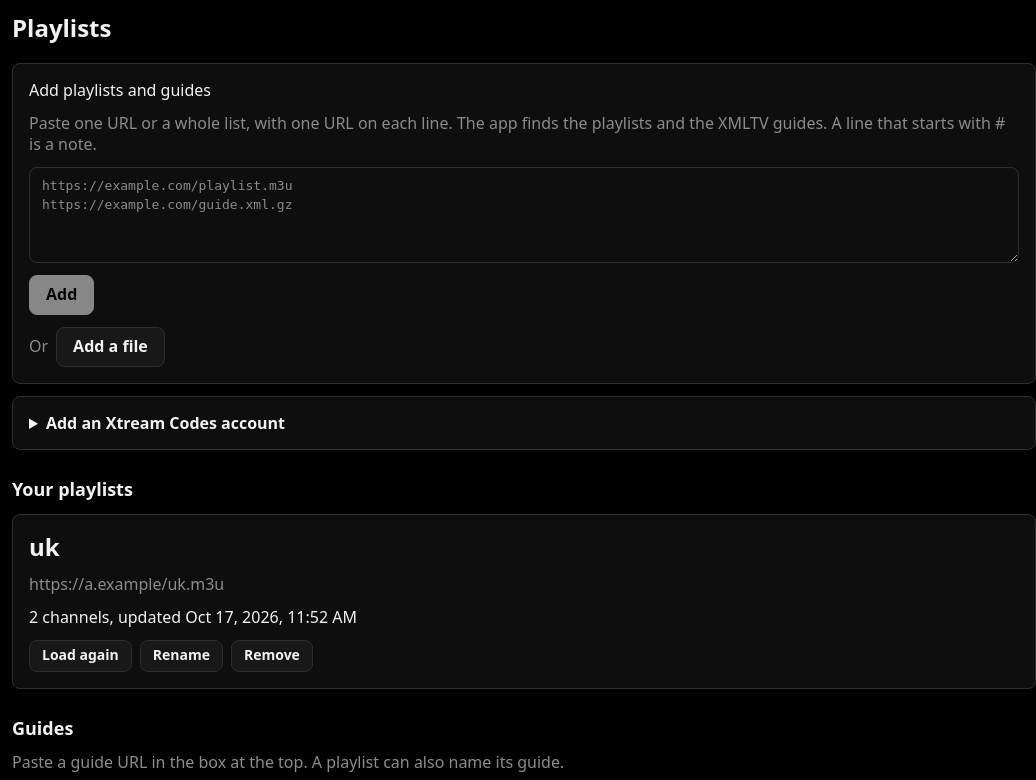
Test case: removes a playlist after the user confirms
Click the button "Remove": point(272, 656) [231,640,313,672]
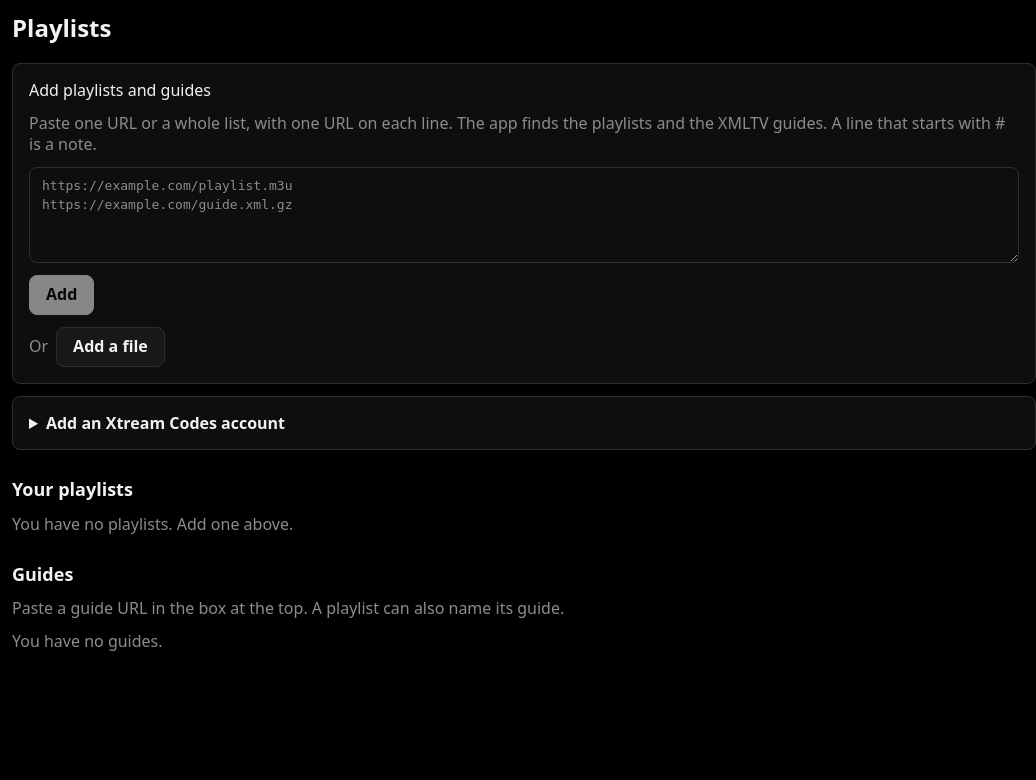
Expected: the list item is gone
